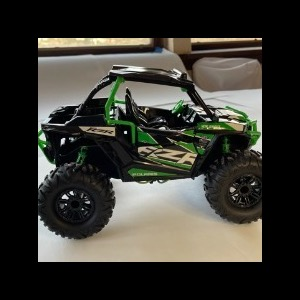polaris: (40, 64, 261, 243)
